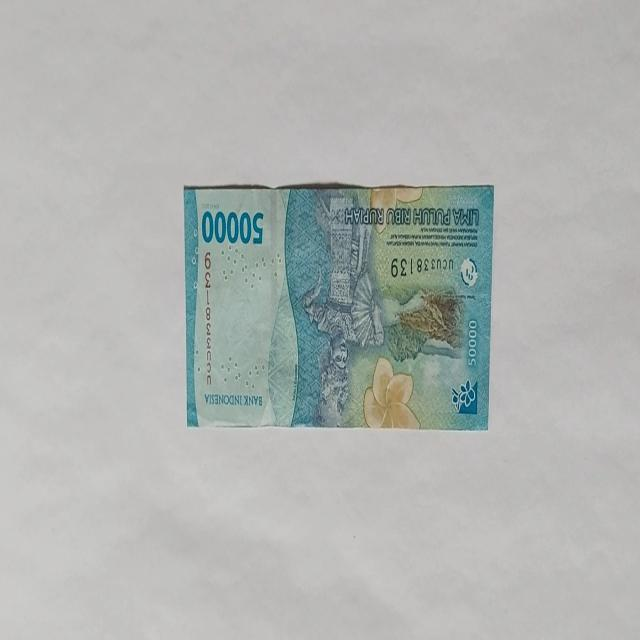lima puluh ribu rupiah: (182, 182, 494, 430), (200, 206, 264, 247)
